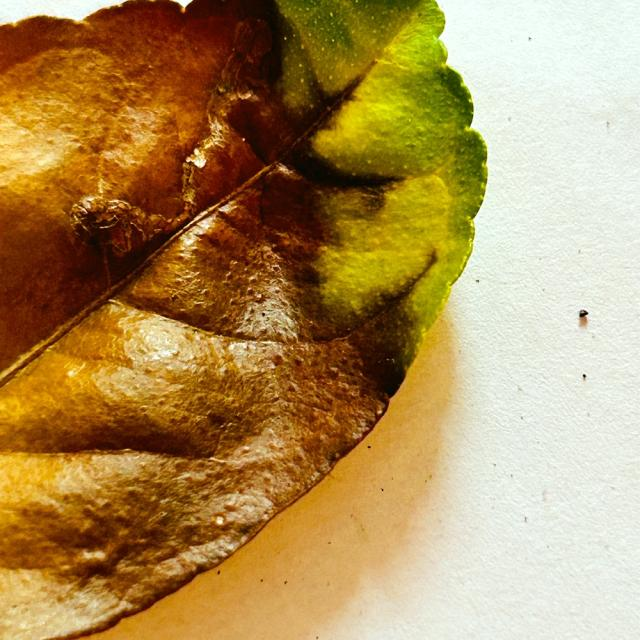DryLeaf_Lemon: (0, 21, 384, 638)
